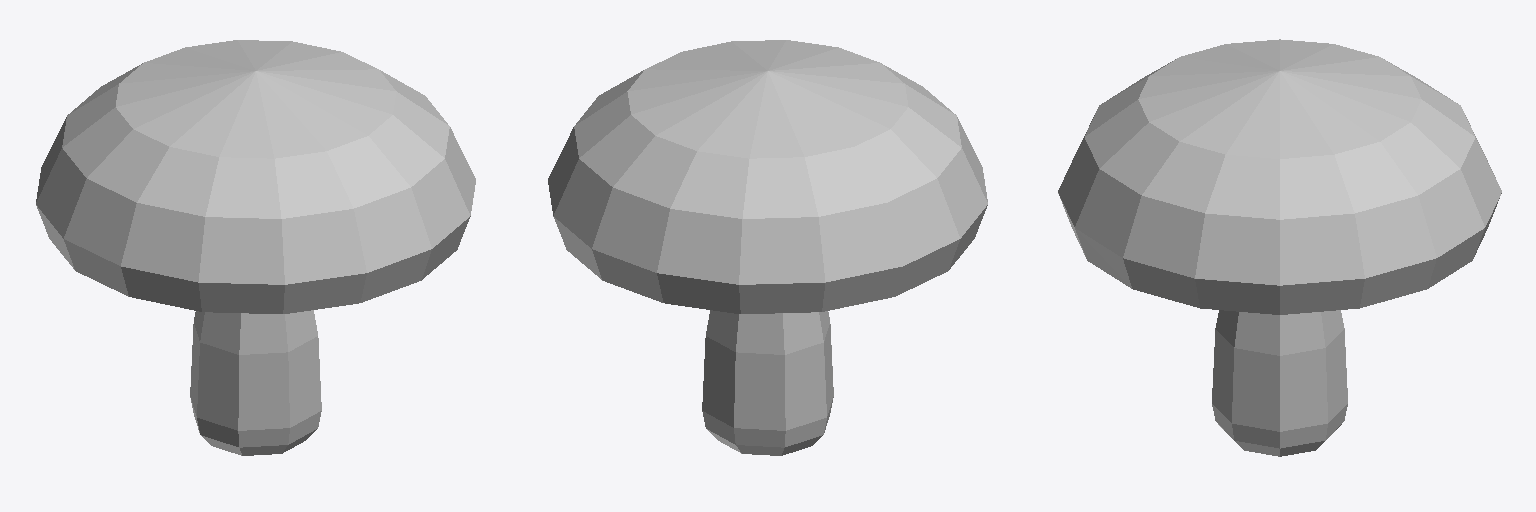
File: Mushroom_01_Base.obj
The picture shows the model from 3 angles: view 1: azimuth 30°, elevation 25°; view 2: azimuth 150°, elevation 25°; view 3: azimuth 270°, elevation 25°; orthographic projection.
Visible parts, largest first — view 1: Mushroom_01_Base_Circle.003; view 2: Mushroom_01_Base_Circle.003; view 3: Mushroom_01_Base_Circle.003.
Boxes of the visible parts, <box> form: Mushroom_01_Base_Circle.003: <box>36,40,475,455</box>; Mushroom_01_Base_Circle.003: <box>548,40,987,455</box>; Mushroom_01_Base_Circle.003: <box>1058,39,1501,456</box>.
Size of the model in its own units: 0.6655 by 0.6111 by 0.6655.